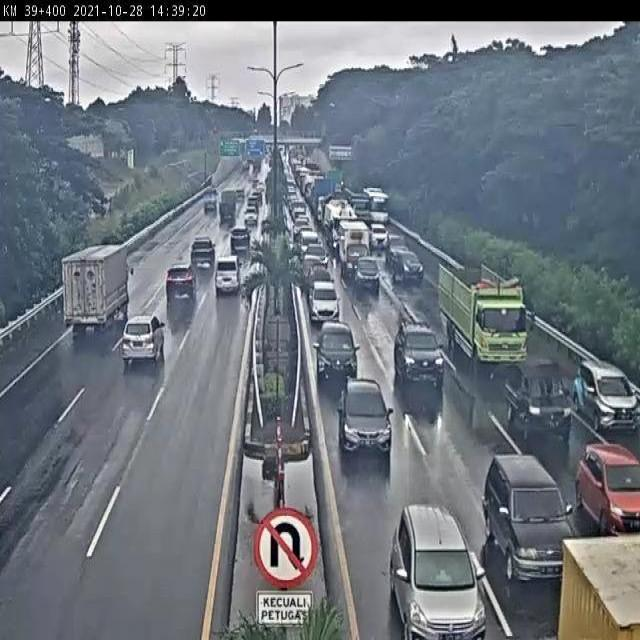car: (391, 505, 483, 640), (485, 459, 576, 581), (571, 444, 640, 535), (336, 378, 398, 454), (573, 366, 640, 434), (394, 322, 445, 394), (315, 317, 358, 379), (122, 318, 163, 358), (310, 276, 339, 321), (381, 248, 420, 280), (215, 258, 240, 294), (164, 265, 193, 296), (354, 255, 379, 285), (190, 238, 216, 266), (382, 229, 407, 255), (303, 253, 324, 280), (230, 228, 251, 253), (307, 264, 331, 285), (305, 244, 328, 265)
mid truck: (441, 264, 530, 365), (63, 242, 129, 334)
small truck: (503, 357, 567, 439), (340, 224, 370, 271)
